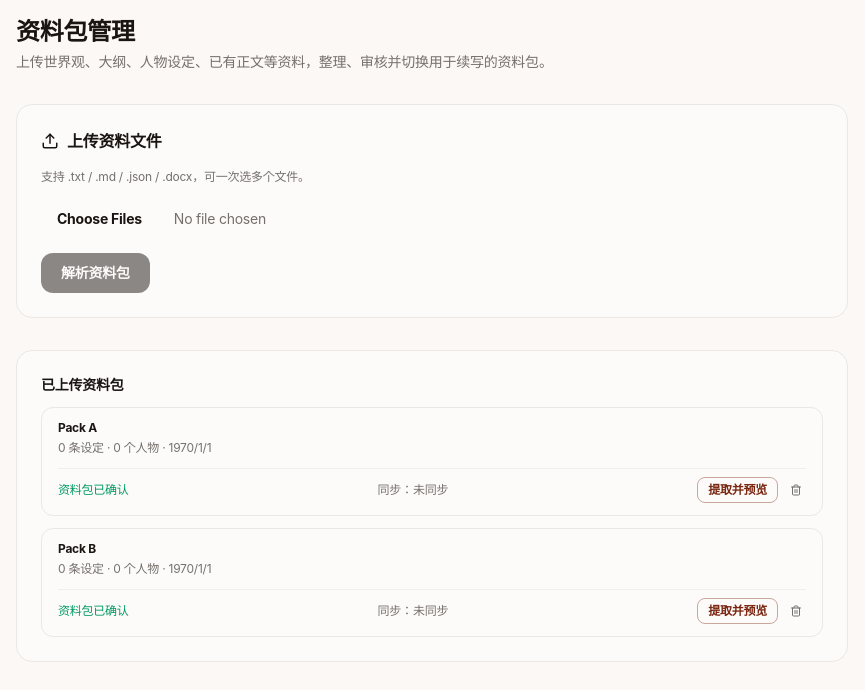
it: ContinuationPackView A/B late response › extraction failure stays inside the selected pack card
Click the text "Pack B".
click(77, 548)  # box [58, 541, 96, 556]
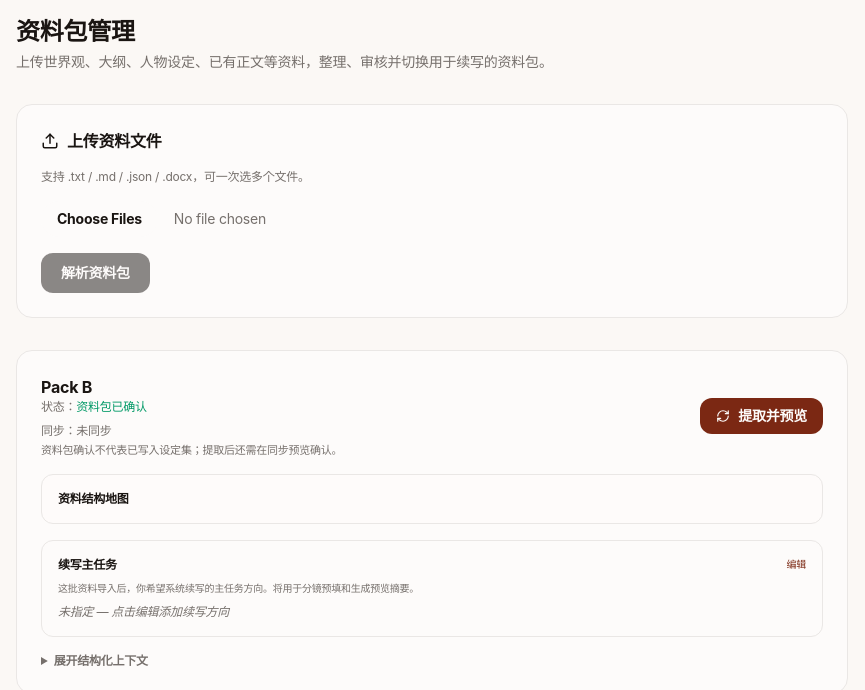
Click the button "提取并预览".
click(762, 416)  # box [700, 398, 823, 434]
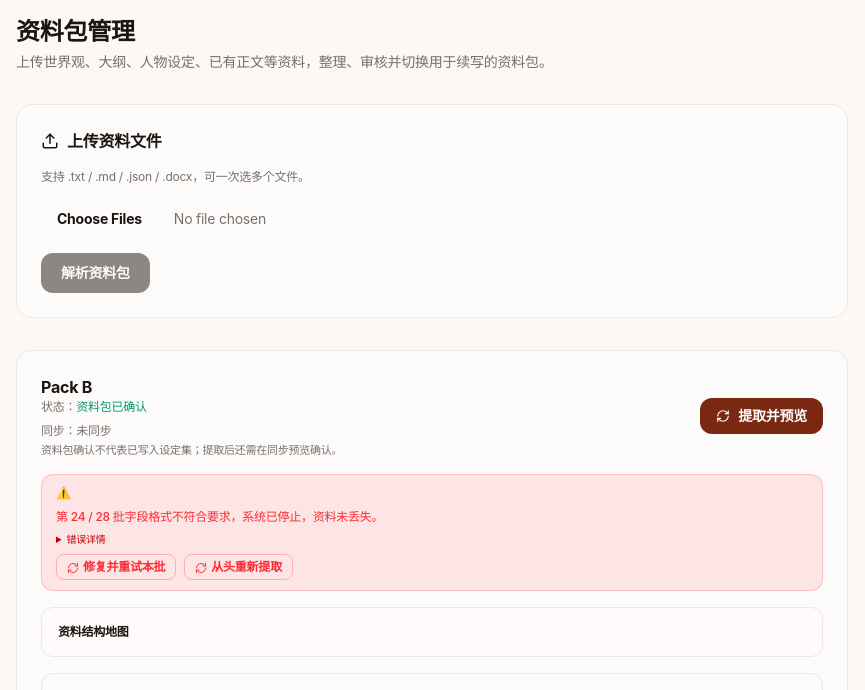
Check: the heading "资料包管理" is shown, box [16, 16, 135, 47]
Check: the message "⚠️ 第 24 / 28 批字段格式不符合要求，系统已停止，资料未丢失。 错误详情 修复并重试本批 从头重新提取" is shown, box [41, 474, 823, 591]
